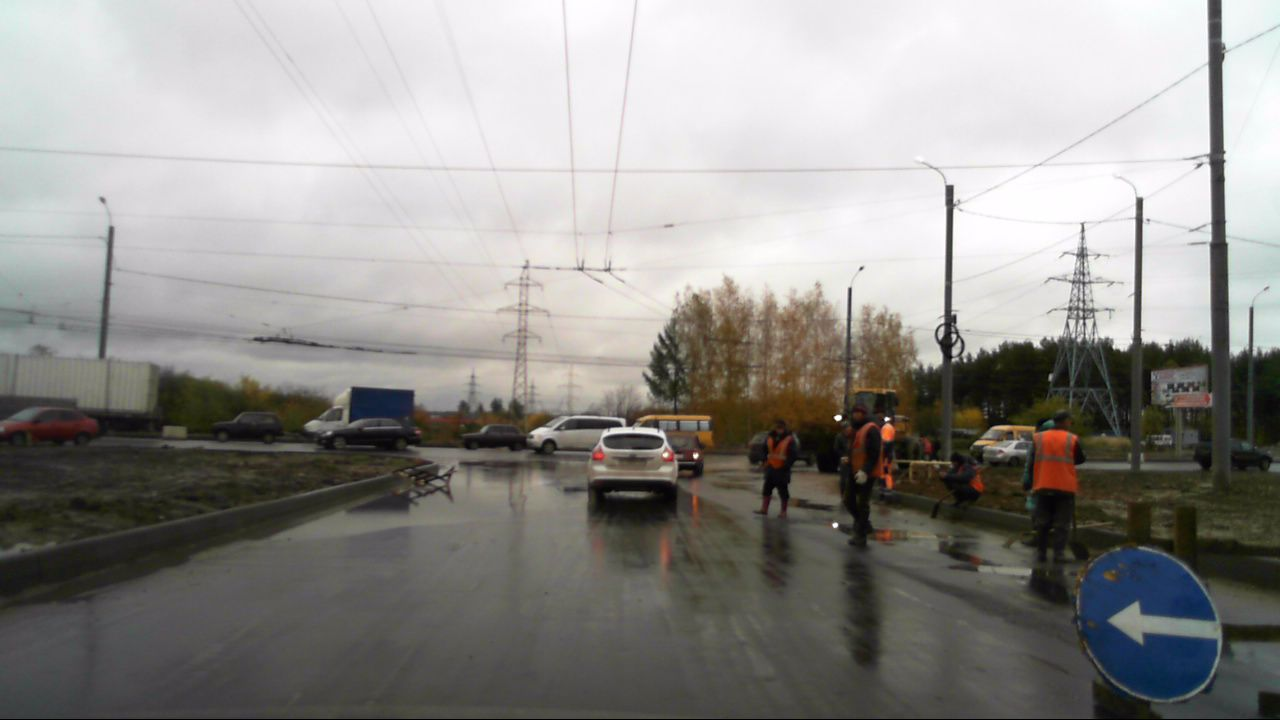Turn Left: (1074, 544, 1223, 702)
